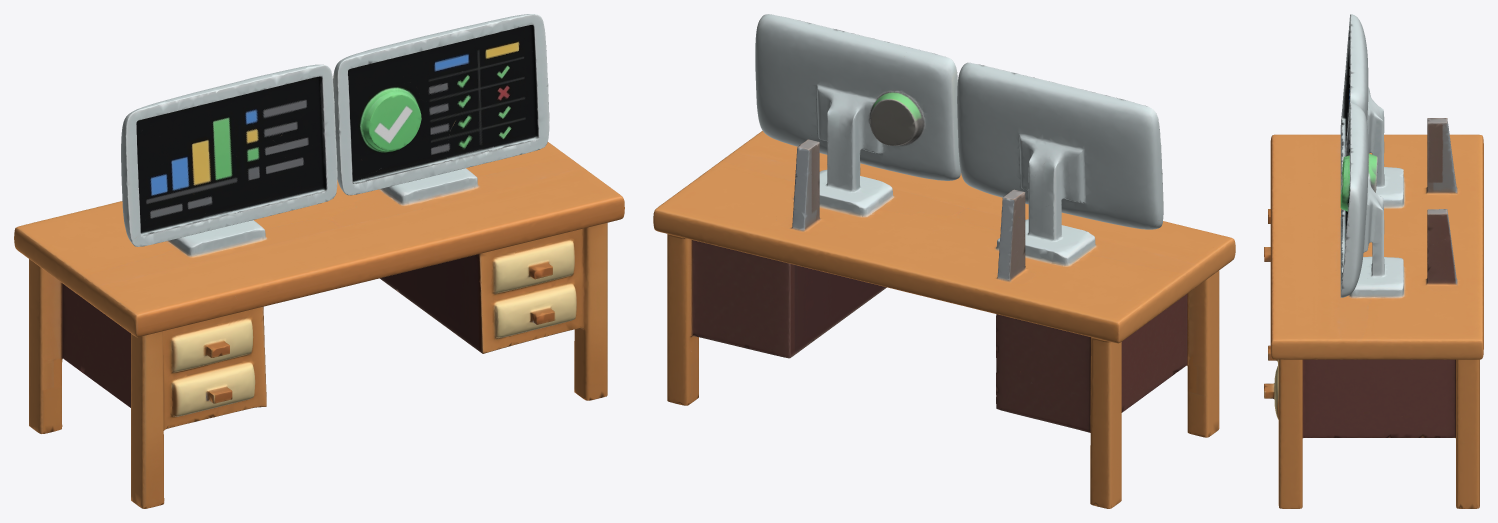
File: Estacion1.glb
3 views of the same model, side by side, from view 1: azimuth 30°, elevation 25°; view 2: azimuth 150°, elevation 25°; view 3: azimuth 270°, elevation 25° (orthographic). The views are drawn at different scales.
Size of the model in its own units: 1.9 by 1.34 by 0.8515.
1 material, 1 textured.
